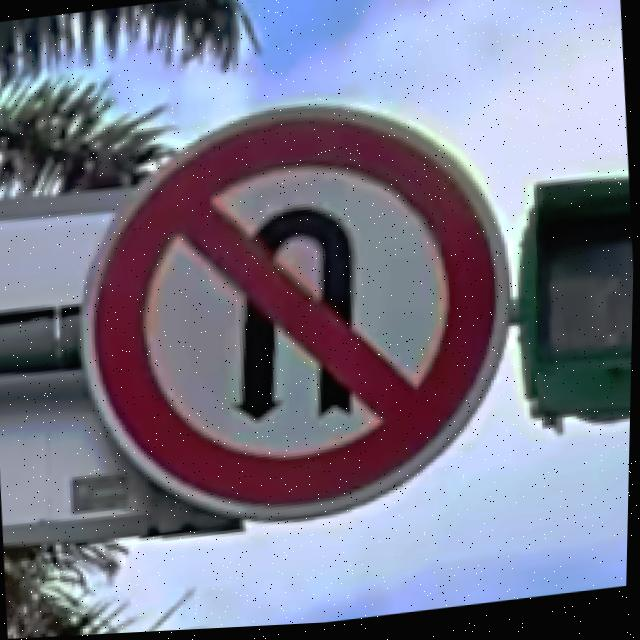nouturn: (94, 124, 496, 505)
